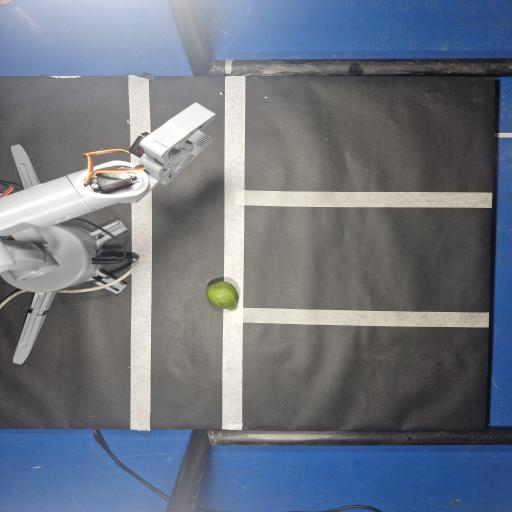higo: (206, 281, 238, 310)
